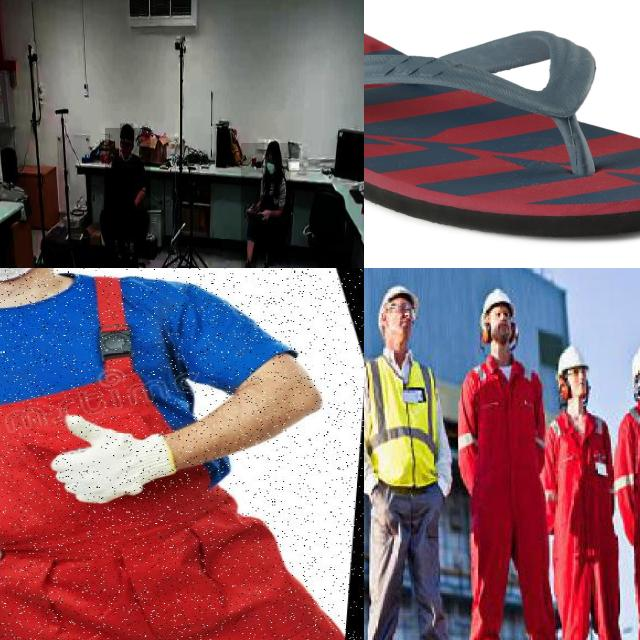Ear-protection: (467, 316, 527, 355), (552, 367, 597, 406), (633, 363, 640, 404)
Sandals: (364, 16, 640, 241)
face_mask: (263, 156, 278, 178)
face_nomask: (119, 139, 133, 158)
glasses: (381, 298, 418, 324)
hand_noglove: (244, 206, 258, 220), (261, 207, 271, 221)
head_helmet: (552, 344, 594, 378), (477, 284, 521, 316), (629, 341, 640, 379)
head_nohelmet: (80, 244, 121, 268), (265, 140, 281, 156), (120, 124, 134, 138)
person: (0, 268, 364, 640), (447, 278, 567, 640), (364, 278, 469, 640), (544, 339, 624, 640), (105, 128, 151, 266), (241, 142, 291, 268)
shoes: (240, 257, 254, 268)
vest: (364, 355, 444, 496)
